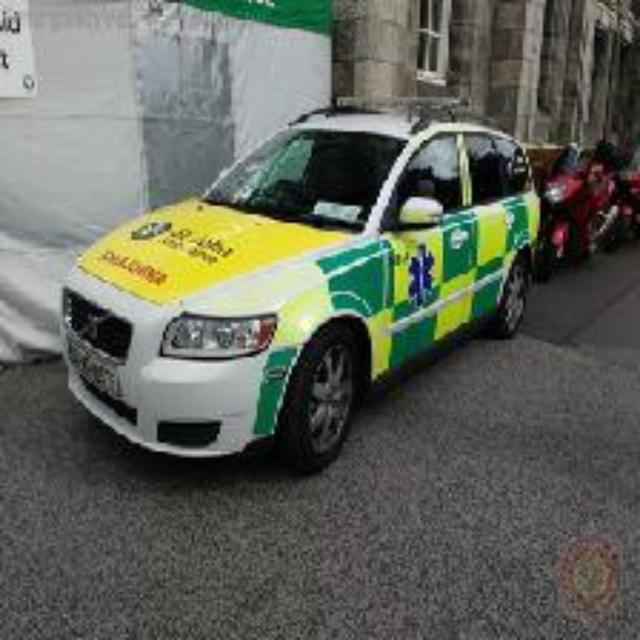emergency: (61, 115, 538, 472)
